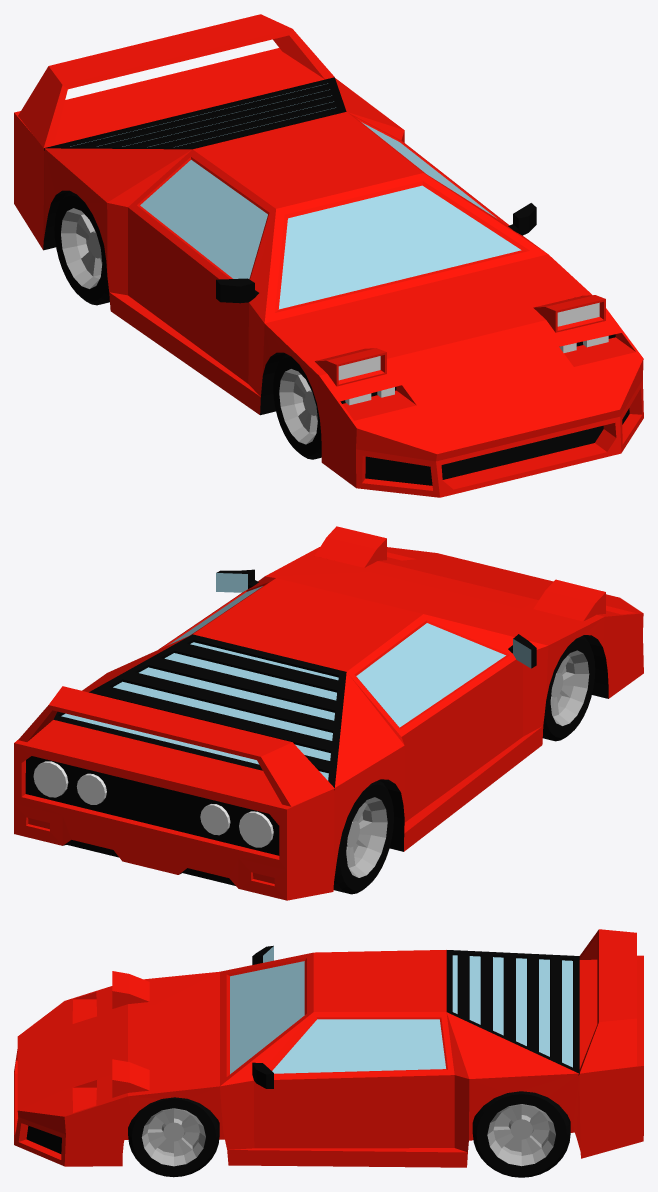
The model's file is Ferrari F40.fbx.
The picture shows the model from 3 angles, top to bottom: view 1: azimuth 30°, elevation 25°; view 2: azimuth 150°, elevation 25°; view 3: azimuth 270°, elevation 25°; orthographic projection. The views are drawn at different scales.
Visible parts, largest first — view 1: Car, Spoiler, Grid, Rear right wheel, Headlights_1, Front right wheel, Rear view mirrors; view 2: Car, Grid, Spoiler, Rear right wheel, Headlights_1, Front right wheel, Stop_signals, Rear view mirrors; view 3: Car, Grid, Rear left wheel, Spoiler, Front left wheel, Headlights_1, Rear view mirrors.
Boxes of the visible parts, box(x1,y1,x2,y2) form: Car: box(14, 48, 643, 497); Spoiler: box(18, 14, 334, 147); Grid: box(44, 77, 346, 150); Rear right wheel: box(54, 191, 109, 305); Headlights_1: box(315, 295, 605, 386); Front right wheel: box(273, 354, 321, 459); Rear view mirrors: box(216, 203, 536, 303); Car: box(14, 547, 643, 900); Grid: box(53, 634, 346, 789); Spoiler: box(18, 686, 334, 806); Rear right wheel: box(333, 780, 393, 894); Headlights_1: box(314, 526, 605, 621); Front right wheel: box(542, 635, 595, 741); Stop_signals: box(33, 761, 273, 847); Rear view mirrors: box(216, 569, 536, 668); Car: box(14, 950, 643, 1167); Grid: box(446, 950, 579, 1075); Rear left wheel: box(472, 1091, 570, 1177); Spoiler: box(579, 929, 636, 1073); Front left wheel: box(128, 1097, 219, 1177); Headlights_1: box(112, 971, 149, 1097); Rear view mirrors: box(252, 945, 273, 1088).
Bounding box in the file's own units: 132 × 71.58 × 276.
